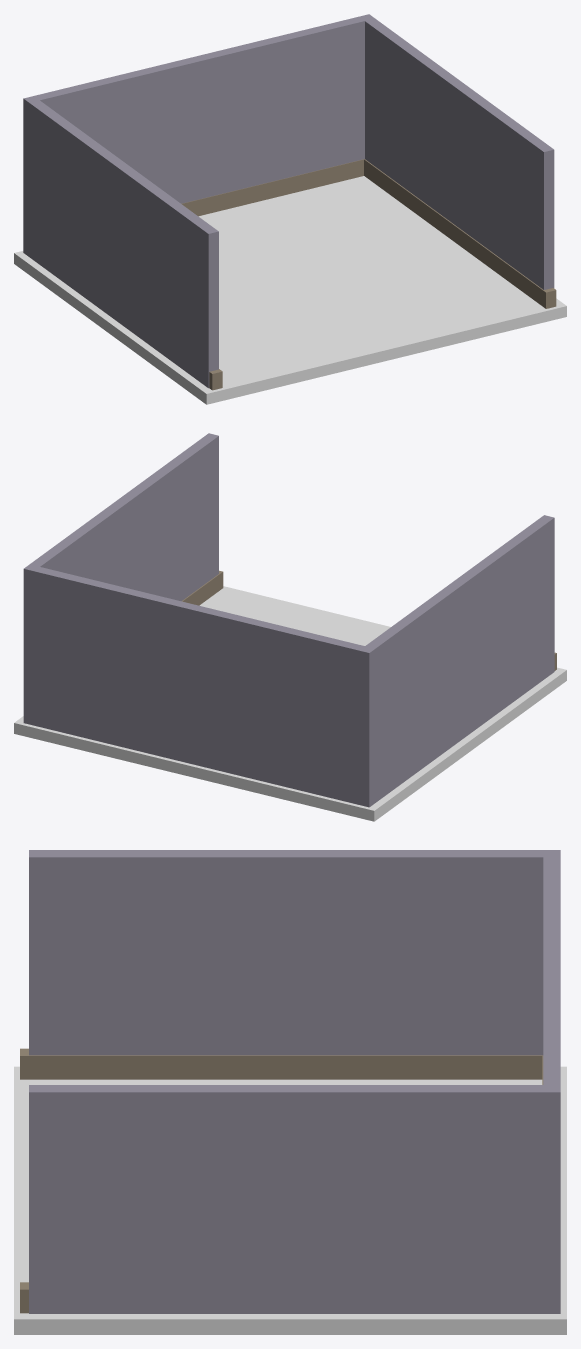
The model's file is stage3_4.fbx.
3 renders of one model, top to bottom at view 1: azimuth 30°, elevation 25°; view 2: azimuth 150°, elevation 25°; view 3: azimuth 270°, elevation 25°, orthographic. The views are drawn at different scales.
Visible parts, largest first — view 1: stage_level1.002; view 2: stage_level1.002; view 3: stage_level1.002.
Boxes of the visible parts, x1=… form: stage_level1.002: x1=14, y1=14, x2=566, y2=404; stage_level1.002: x1=14, y1=433, x2=566, y2=821; stage_level1.002: x1=14, y1=850, x2=566, y2=1334.
Bounding box in the file's own units: 771 × 365 × 833.
